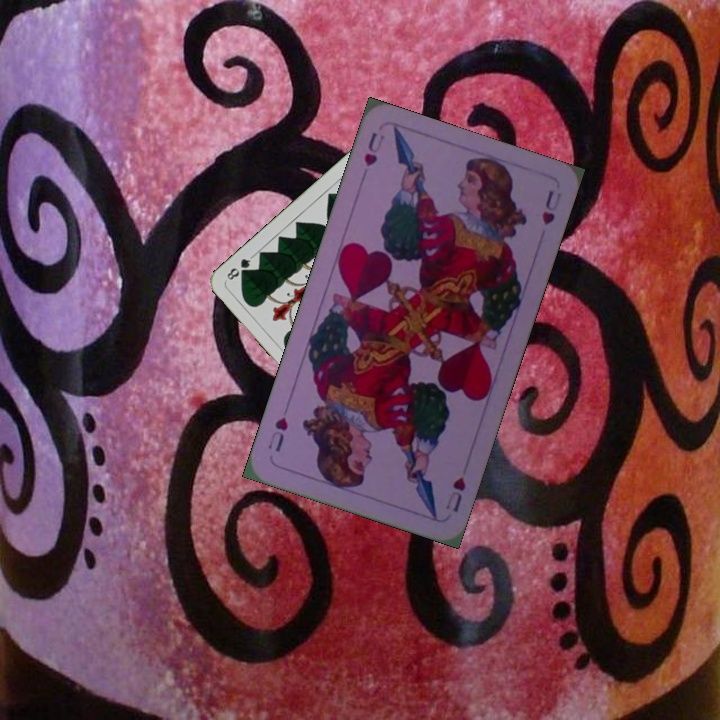HU: (441, 472, 469, 515), (359, 128, 387, 169)
